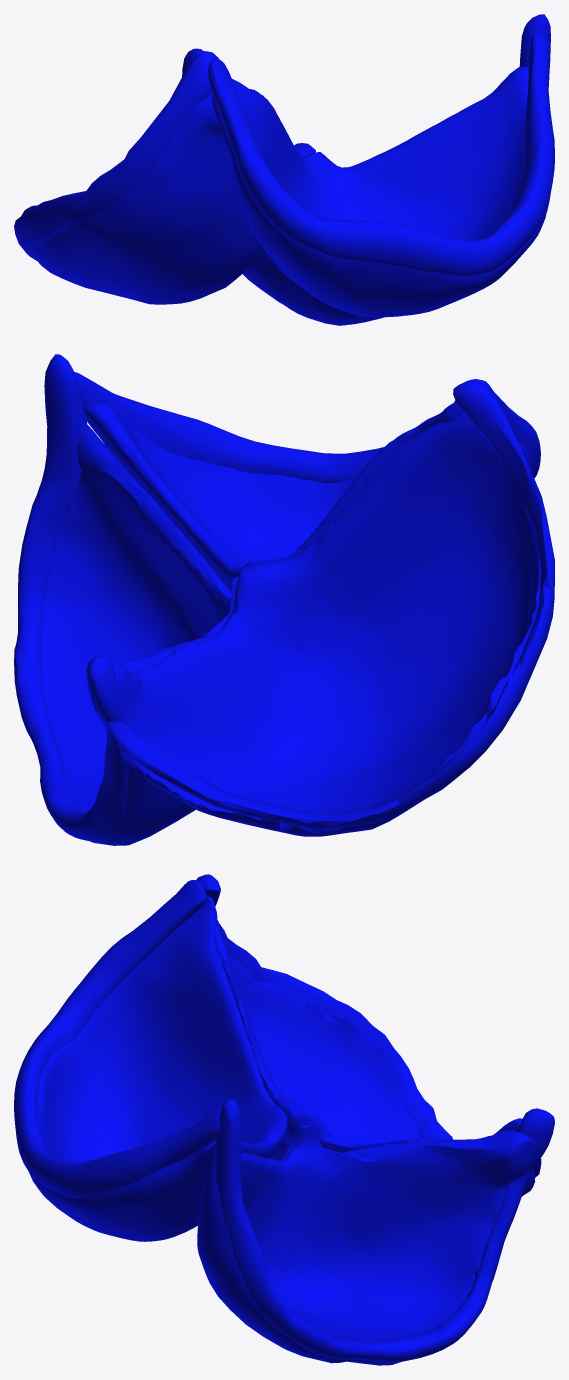
Rendered from arteri_pulmonalis.glb.
3 views of the same model, one above another, from view 1: azimuth 30°, elevation 25°; view 2: azimuth 150°, elevation 25°; view 3: azimuth 270°, elevation 25° (orthographic). The views are drawn at different scales.
Parts seen in each view (by area): view 1: MM606_BP51921_FMA7247_Left anterior cusp of pulmonary valve; view 2: MM606_BP51921_FMA7247_Left anterior cusp of pulmonary valve; view 3: MM606_BP51921_FMA7247_Left anterior cusp of pulmonary valve.
Part boxes in pixels (x1,y1,x2,y2): MM606_BP51921_FMA7247_Left anterior cusp of pulmonary valve: (14, 14, 554, 325); MM606_BP51921_FMA7247_Left anterior cusp of pulmonary valve: (14, 354, 554, 845); MM606_BP51921_FMA7247_Left anterior cusp of pulmonary valve: (14, 874, 554, 1365).
Bounding box in the file's own units: 0.0284 × 0.021 × 0.028.
